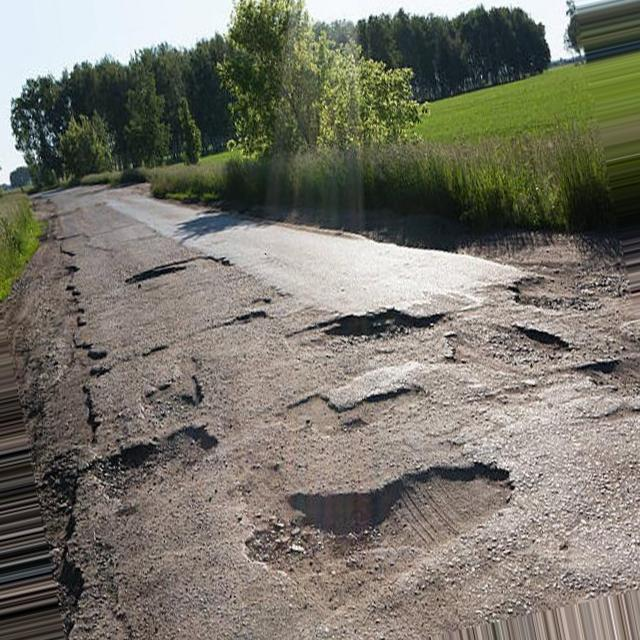Lubang: (240, 465, 515, 581), (98, 428, 221, 497), (313, 309, 436, 357)
Pinggir: (17, 242, 113, 633)
